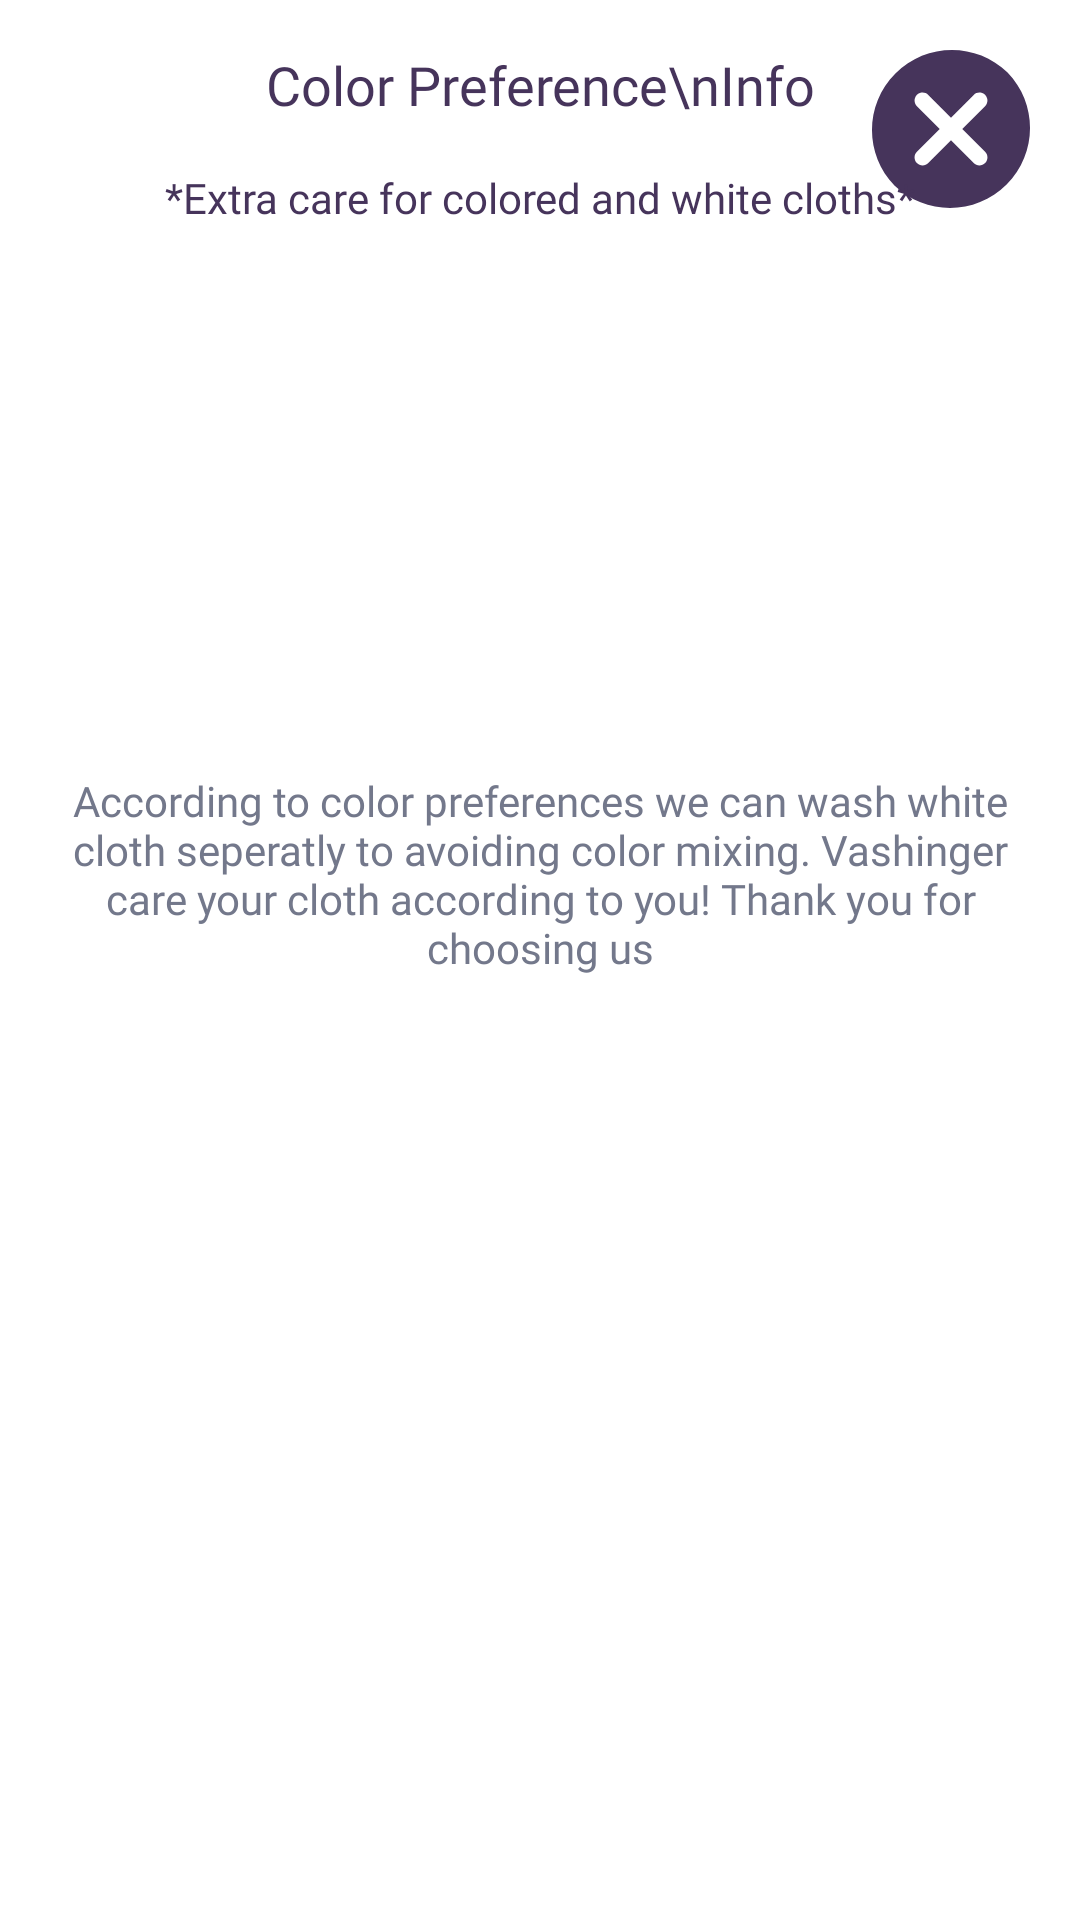

Icon click points for this 1080px x 1920px phone screenshot, format (x=x, y=y):
close: (x=951, y=130)
